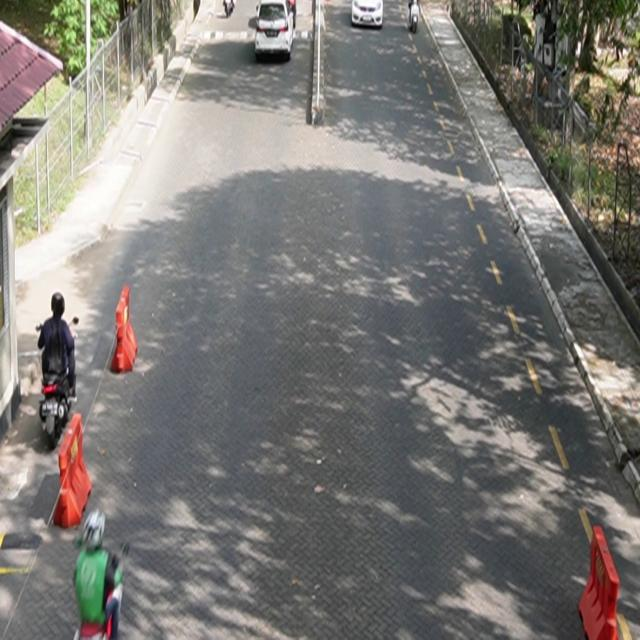car: (256, 1, 296, 62), (352, 1, 384, 29)
